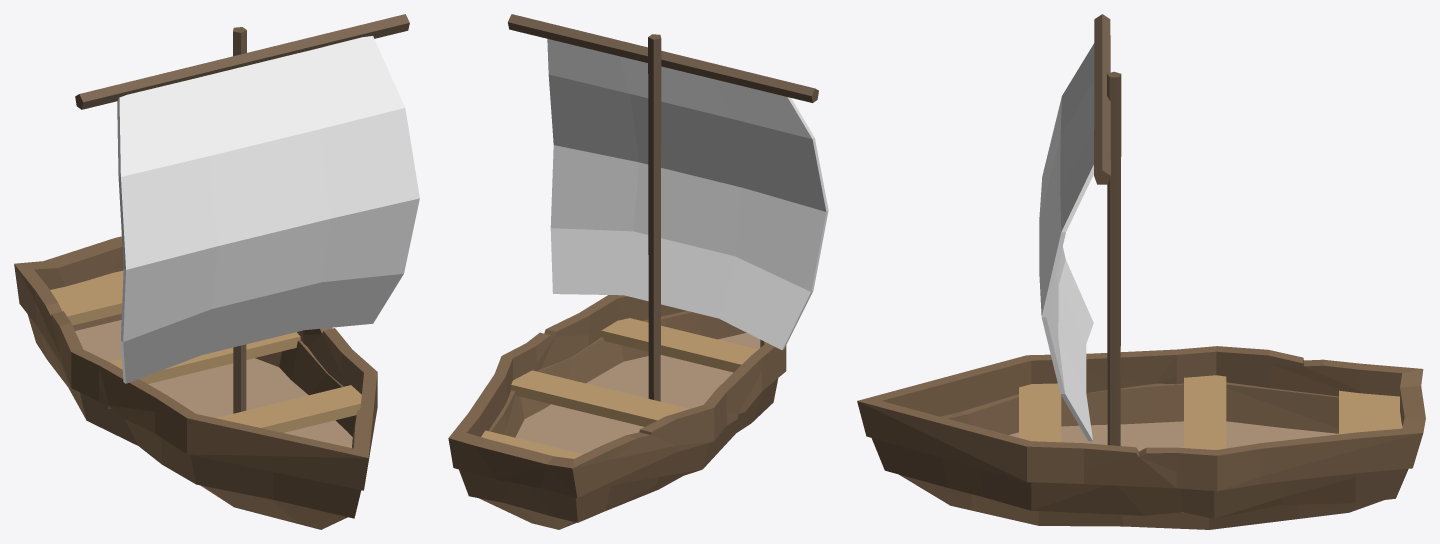
Rendered from Boat.fbx.
The picture shows the model from 3 angles, left to right: view 1: azimuth 30°, elevation 25°; view 2: azimuth 150°, elevation 25°; view 3: azimuth 270°, elevation 25°; orthographic projection. The views are drawn at different scales.
Visible parts, largest first — view 1: Boat; view 2: Boat; view 3: Boat.
Boxes of the visible parts, x1,y1,x2,y2 form: Boat: (14, 14, 419, 529); Boat: (448, 14, 828, 529); Boat: (857, 14, 1425, 529).
Size of the model in its own units: 183 by 235 by 280.
1 material, 1 textured.
